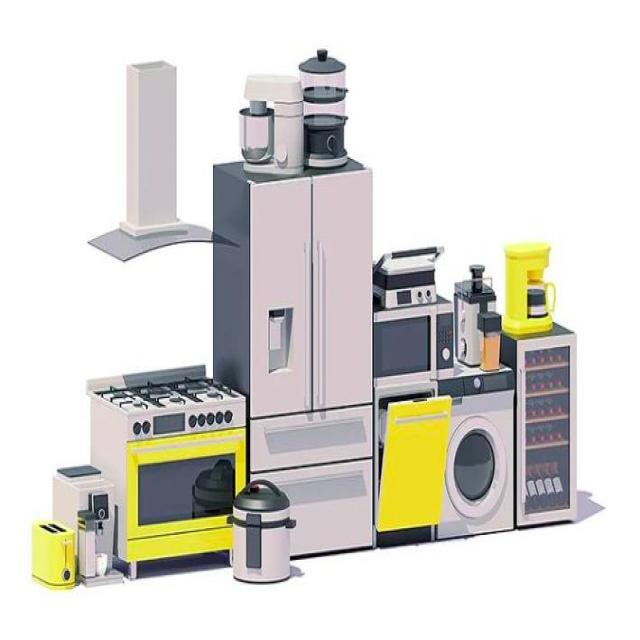dishwasher: (376, 382, 450, 543)
